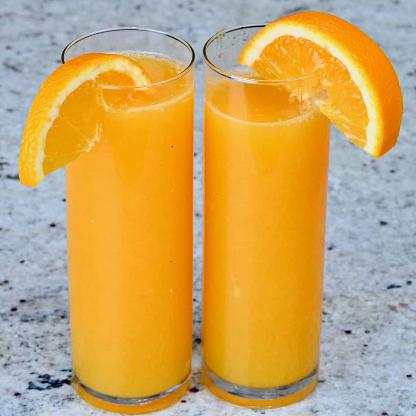orange juice: (62, 51, 196, 402), (200, 69, 332, 393)
